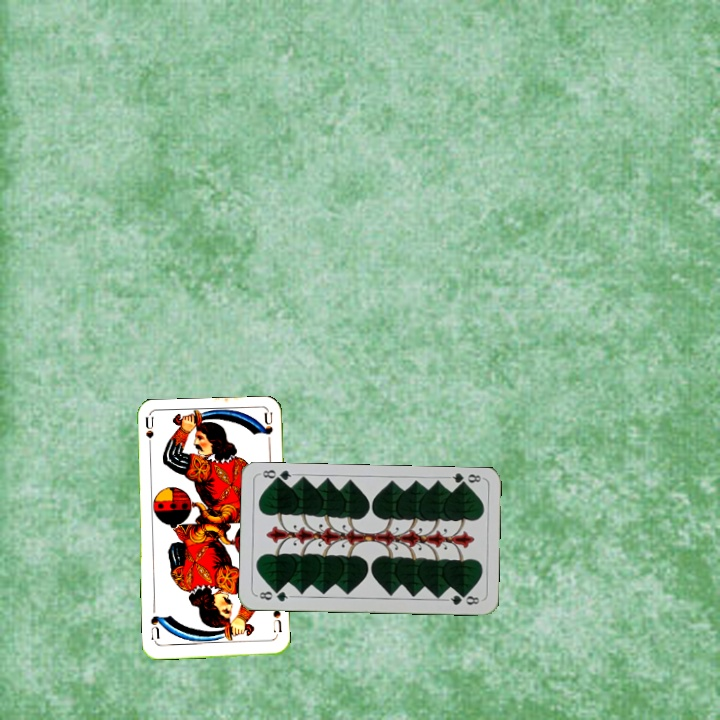G8: (444, 470, 485, 490), (253, 586, 294, 604)
SU: (141, 414, 156, 455), (269, 606, 284, 640)
